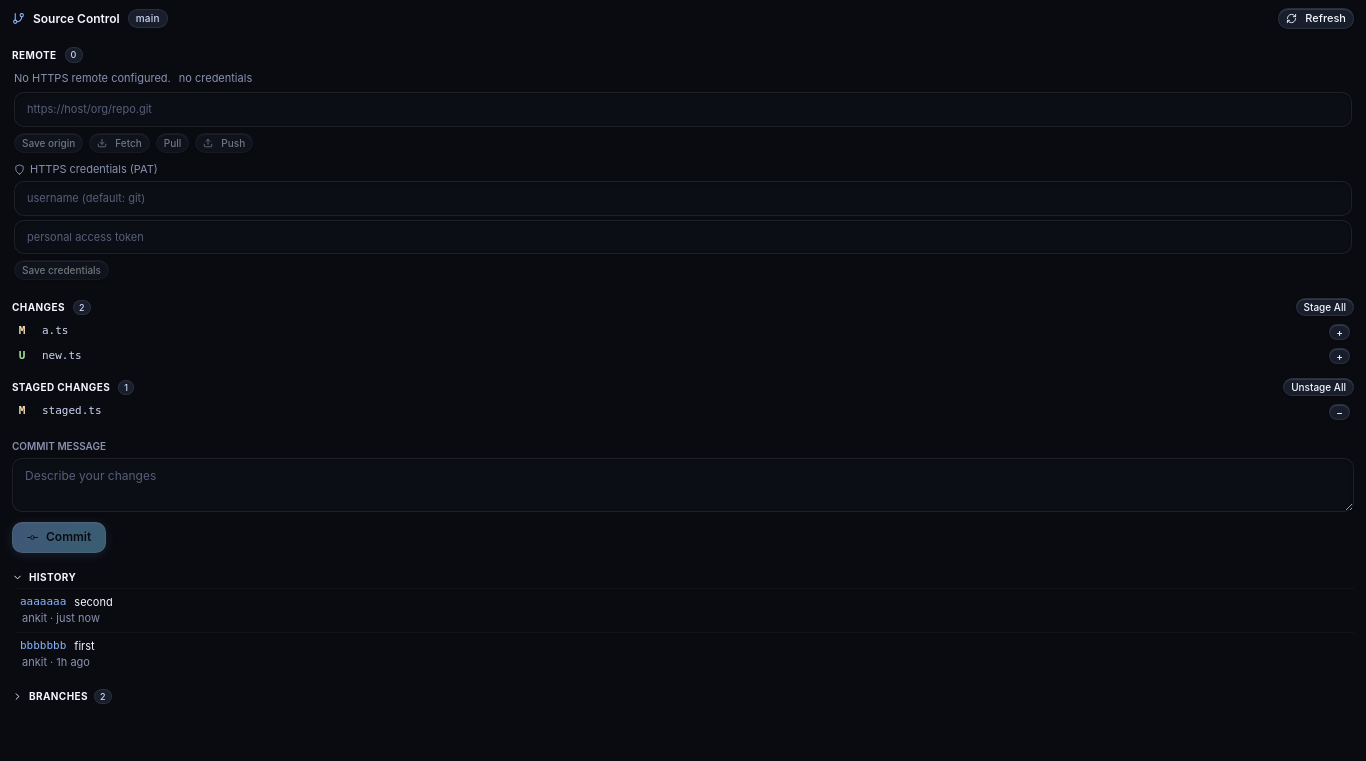
Test: SourceControlPanel — M51 › 56/63. checkout uses fetch, reconciles buffers, and refreshes
Click the button "BRANCHES 2": [58, 696] box [12, 686, 1354, 707]
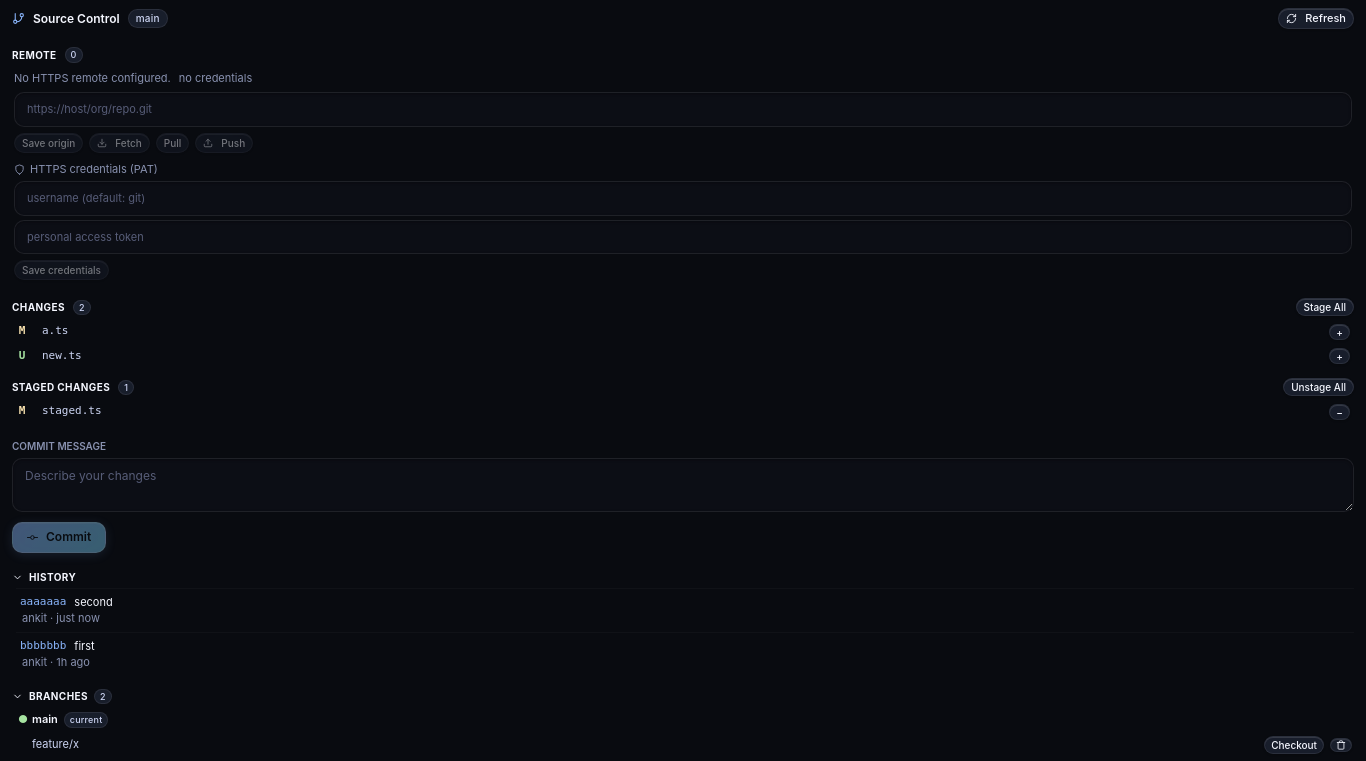
Click the button "Checkout": [1294, 745] box [1264, 736, 1324, 754]
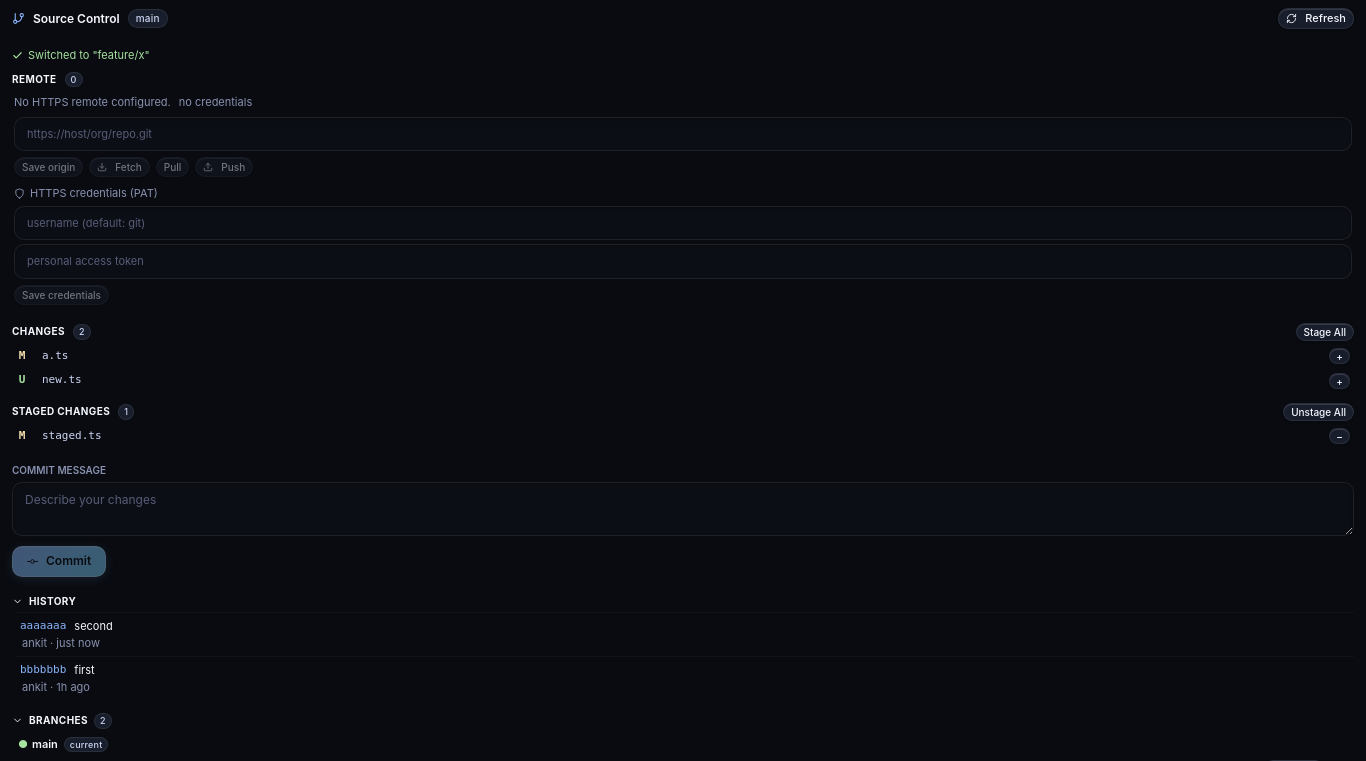
Expected: the text "Switched to \"feature/x\"" is shown, [12, 48, 150, 62]
